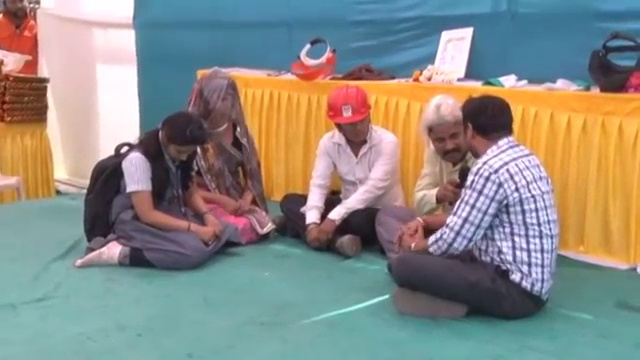helmet: (322, 85, 373, 129), (0, 45, 32, 76)
helmet_off: (460, 95, 515, 165), (417, 98, 470, 163), (152, 111, 209, 169), (191, 73, 243, 135), (3, 0, 29, 25)
helmet_on: (319, 86, 375, 142)
person: (385, 94, 564, 319), (272, 75, 424, 258), (75, 111, 228, 271), (181, 65, 275, 250), (373, 92, 478, 253), (0, 0, 39, 75)
